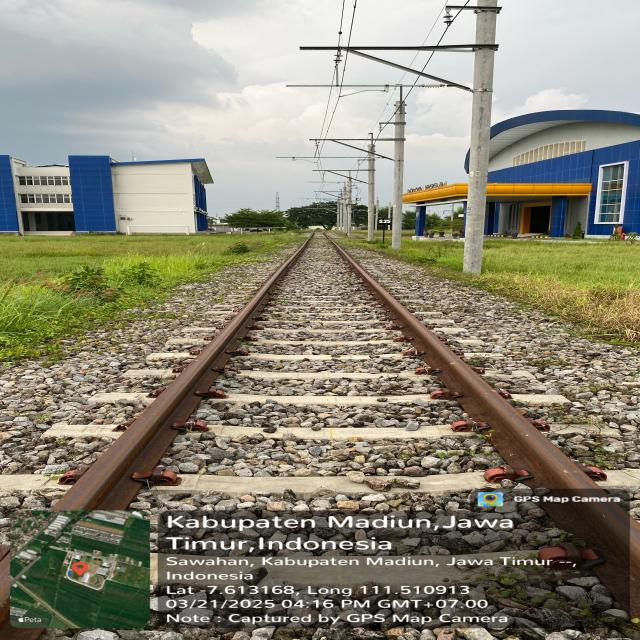rail-detection: (324, 232, 599, 497), (54, 232, 314, 510), (548, 502, 640, 614)
